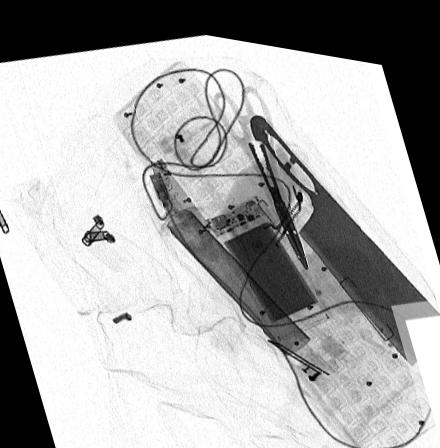Knife: (251, 105, 440, 351)
Powerbank: (207, 185, 333, 324)
Scissors: (213, 75, 310, 258)
